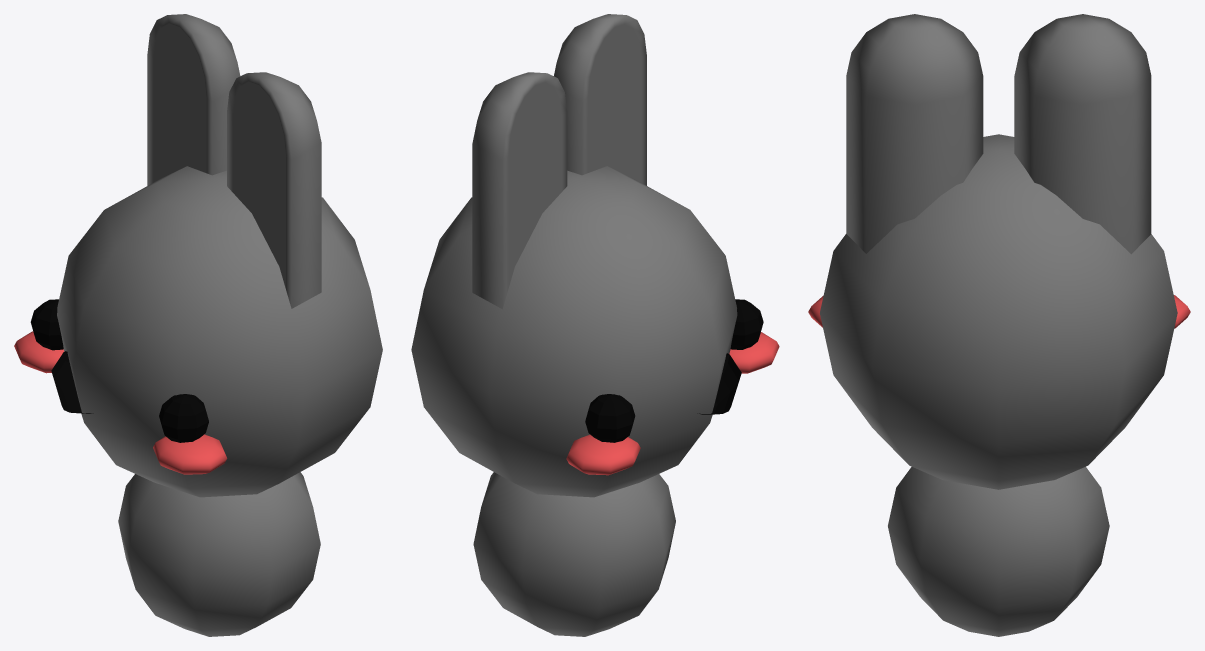
The model's file is HappyBun_Gray.fbx.
The picture shows the model from 3 angles, left to right: view 1: azimuth 30°, elevation 25°; view 2: azimuth 150°, elevation 25°; view 3: azimuth 270°, elevation 25°; orthographic projection. The views are drawn at different scales.
Visible parts, largest first — view 1: HappyBun_Gray; view 2: HappyBun_Gray; view 3: HappyBun_Gray.
Part boxes in pixels (left/top/right/bottom): HappyBun_Gray: left=14, top=14, right=382, bottom=636; HappyBun_Gray: left=411, top=14, right=779, bottom=636; HappyBun_Gray: left=808, top=14, right=1190, bottom=636.
Size of the model in its own units: 105 by 191 by 108.
